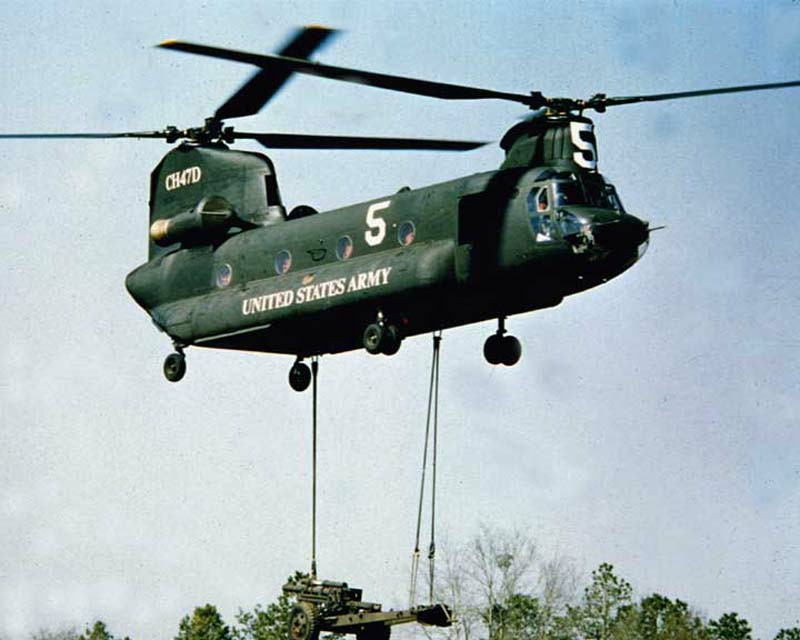chinook: (69, 32, 797, 393)
